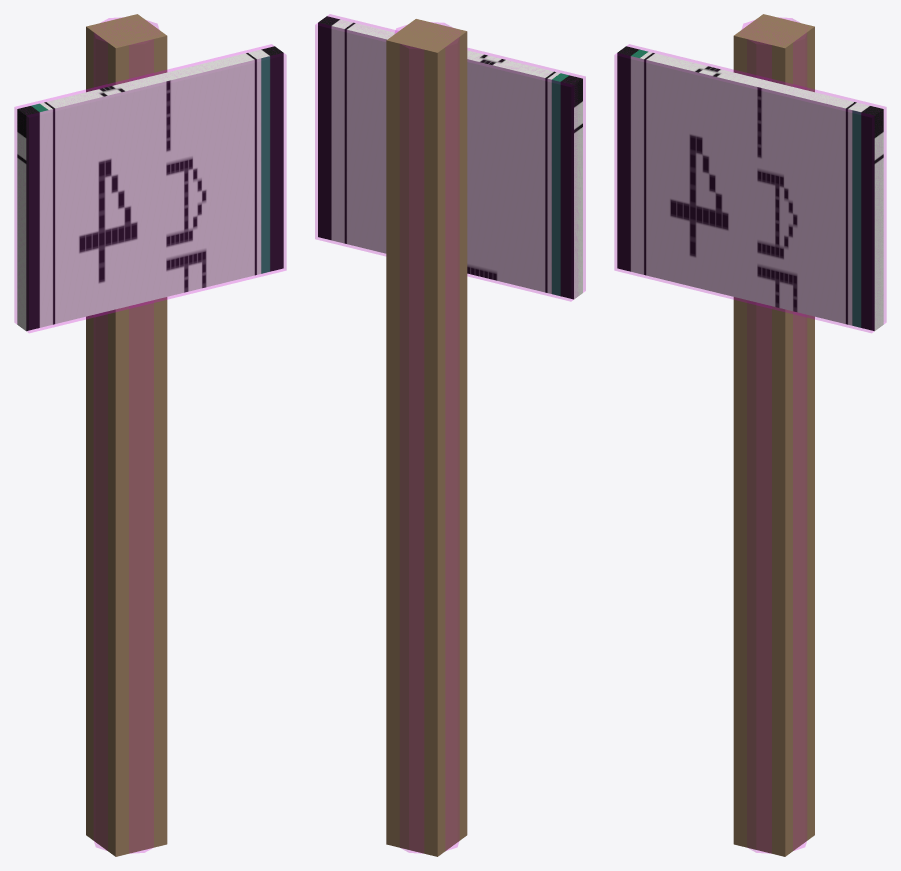
Rendered from lapsign_04.dae.
3 renders of one model, left to right at view 1: azimuth 30°, elevation 25°; view 2: azimuth 150°, elevation 25°; view 3: azimuth 330°, elevation 25°, orthographic.
Parts seen in each view (by area): view 1: sign, Colmesh_sign-1, post, Colmesh_post-1; view 2: post, sign, Colmesh_sign-1, Colmesh_post-1; view 3: sign, Colmesh_sign-1, post, Colmesh_post-1.
Boxes of the visible parts, box(x1,y1,x2,y2) form: sign: box(17, 46, 283, 331); Colmesh_sign-1: box(14, 44, 286, 332); post: box(86, 14, 167, 856); Colmesh_post-1: box(94, 17, 158, 853); post: box(386, 19, 467, 856); sign: box(318, 16, 582, 299); Colmesh_sign-1: box(315, 14, 585, 301); Colmesh_post-1: box(394, 22, 458, 853); sign: box(617, 46, 883, 331); Colmesh_sign-1: box(614, 44, 886, 332); post: box(733, 14, 814, 856); Colmesh_post-1: box(742, 17, 806, 853).
Bounding box in the file's own units: 0.5 × 0.165 × 1.5.
3 materials, 1 textured.
